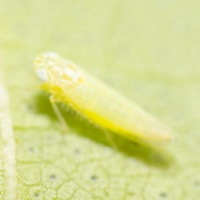insect: (34, 52, 173, 167)
